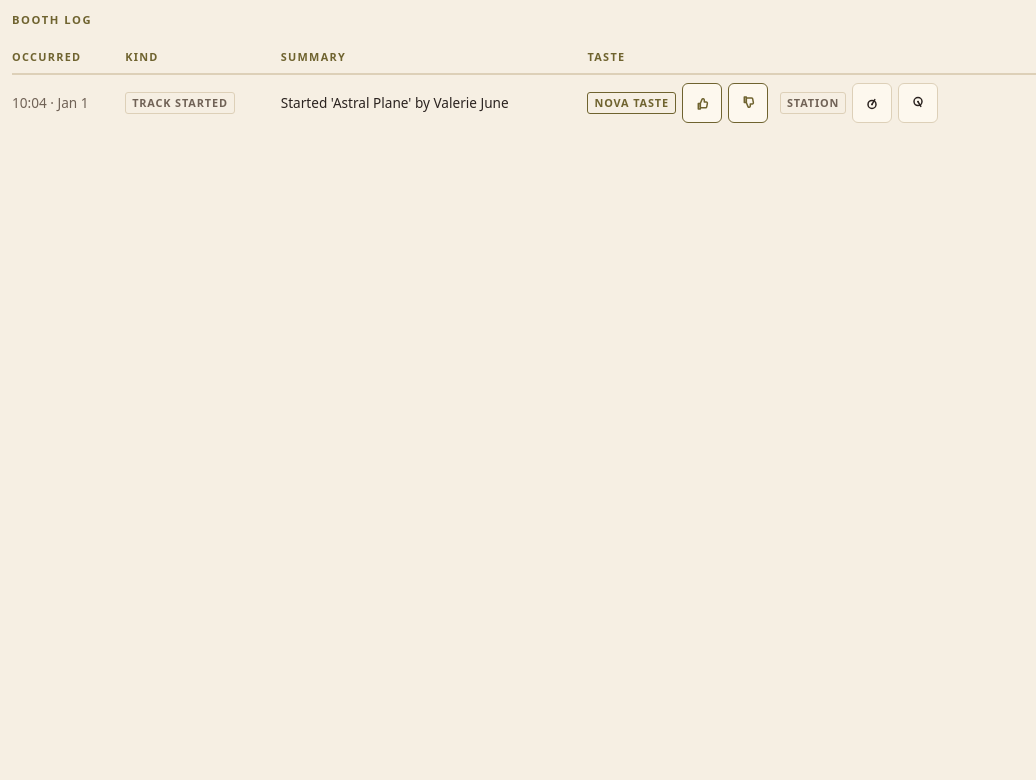
Test: Feature: Station-thumb controls › Scenario: every StationThumbResponse.Result token settles correctly (T369 review LOW-7) › flips: tapping the other direction re-enables the first and settles the second
Click the button named "Station thumbs up".
click(872, 103)  # box [852,83,892,123]
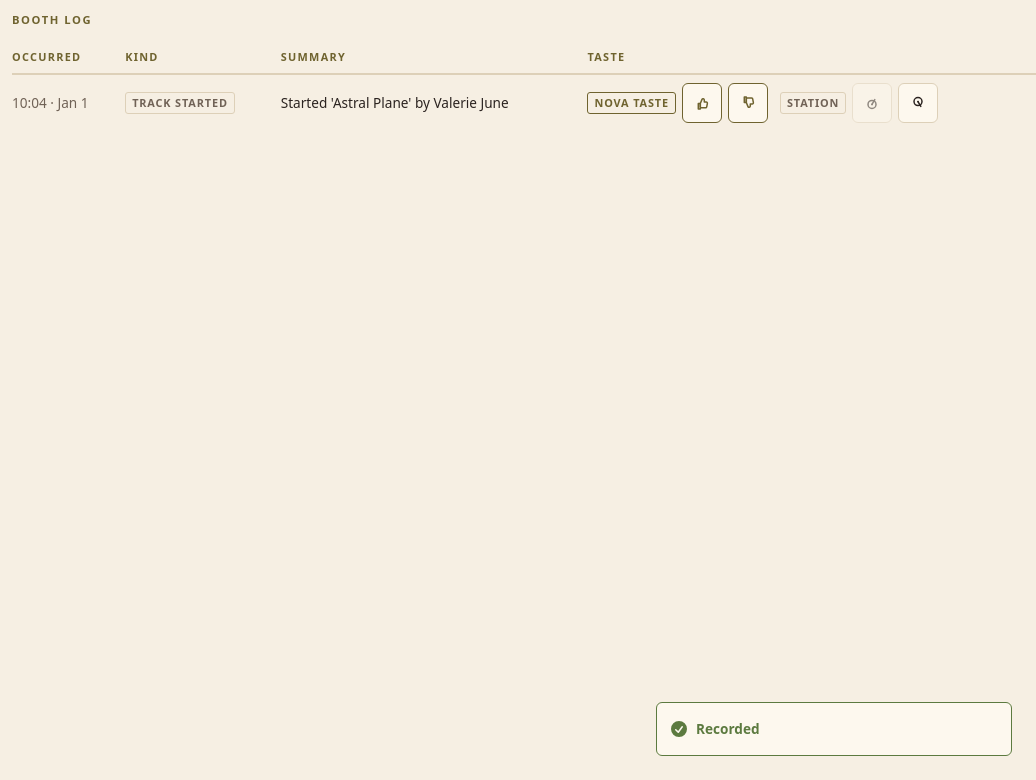
Now the button named "Station thumbs up" is disabled, box [852,83,892,123]
Click the button named "Station thumbs down".
click(918, 103)  # box [898,83,938,123]
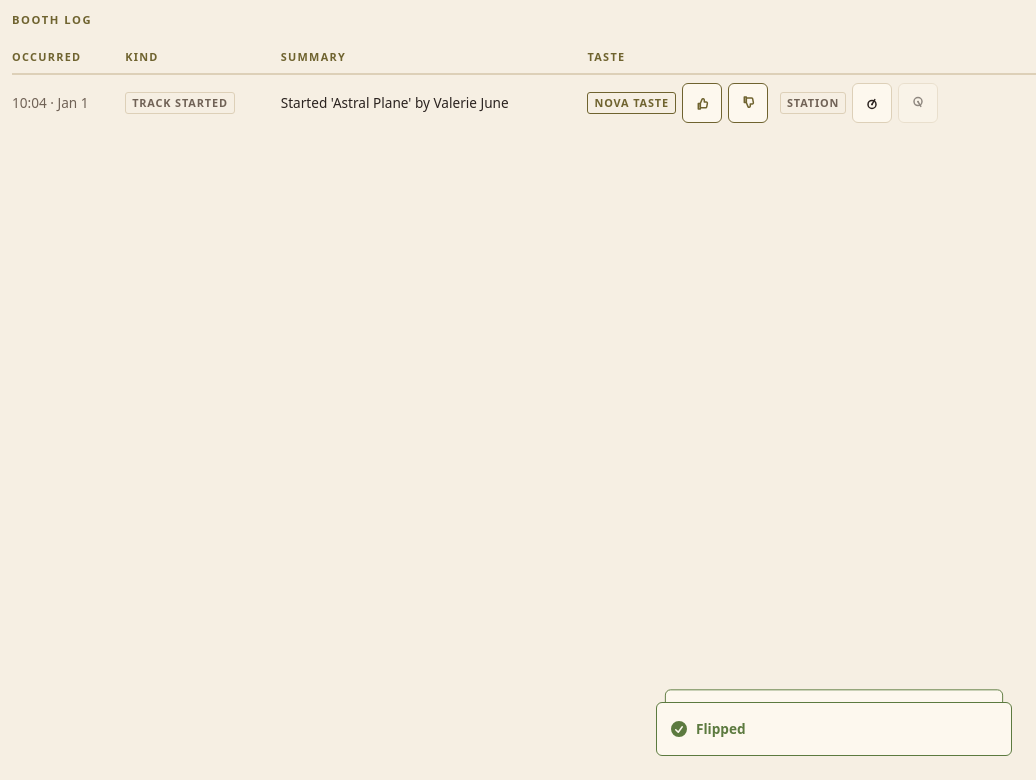
Now the button named "Station thumbs down" is disabled, box [898,83,938,123]
Now the button named "Station thumbs up" is enabled, box [852,83,892,123]
